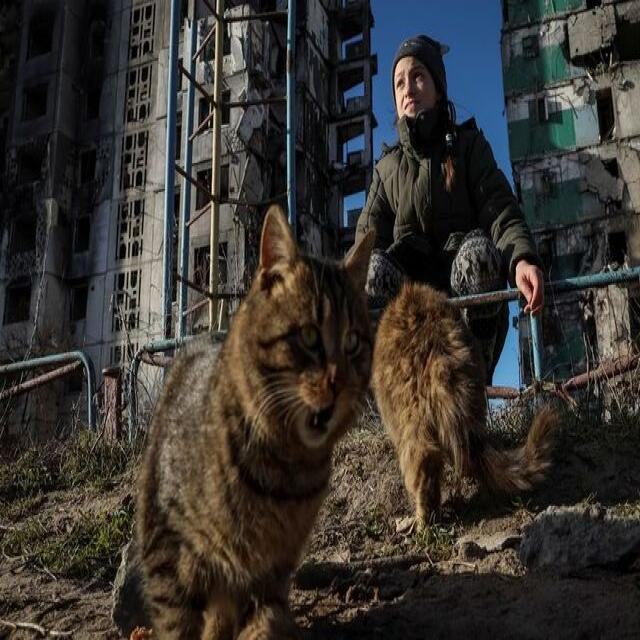cat: (112, 206, 372, 640), (371, 284, 560, 525)
